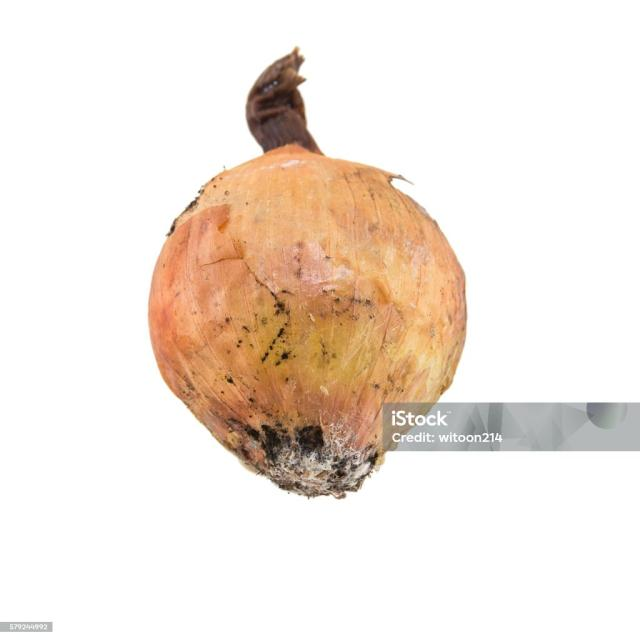rotten: (144, 21, 469, 499)
